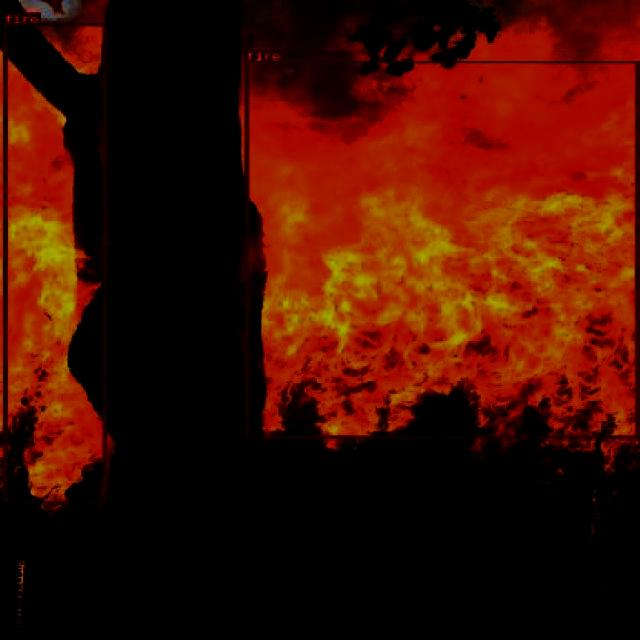fire: (244, 59, 638, 438), (2, 22, 106, 502)
